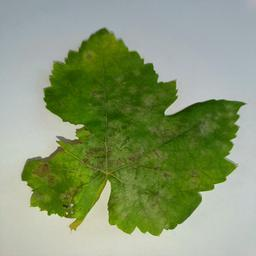Powdery-Mildew: (81, 135, 145, 198), (136, 91, 178, 139), (84, 36, 120, 66), (34, 165, 63, 202), (143, 196, 169, 230), (154, 148, 175, 181), (187, 173, 203, 189)
